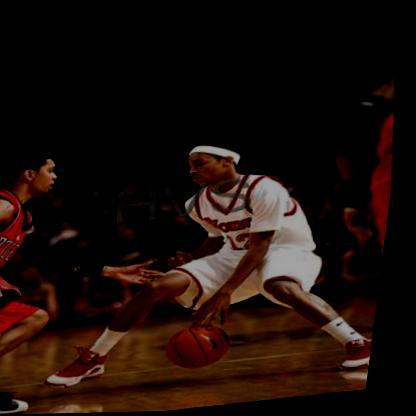basketball: (173, 322, 241, 375)
